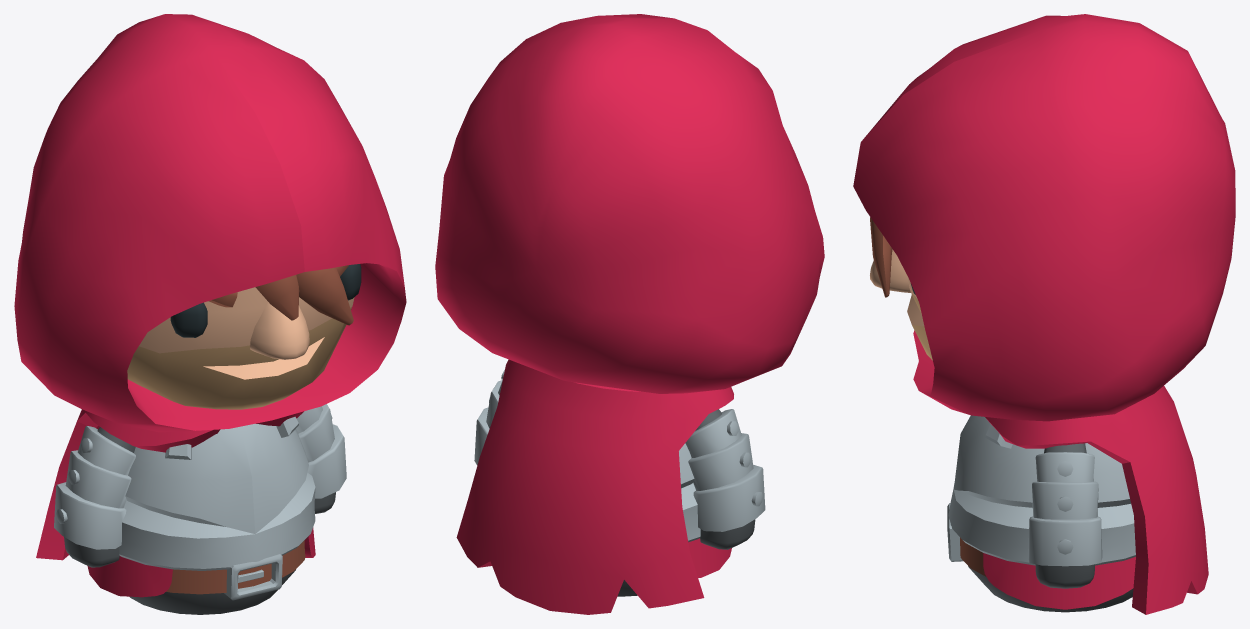
Rendered from character_warrior.gltf.
3 renders of one model, left to right at view 1: azimuth 30°, elevation 25°; view 2: azimuth 150°, elevation 25°; view 3: azimuth 270°, elevation 25°, orthographic. The views are drawn at different scales.
Visible parts, largest first — view 1: character_warriorHead, character_warriorBody, character_warriorArmRight, character_warriorCape, character_warriorArmLeft; view 2: character_warriorHead, character_warriorCape, character_warriorArmRight, character_warriorBody, character_warriorArmLeft; view 3: character_warriorHead, character_warriorBody, character_warriorCape, character_warriorArmLeft.
Part boxes in pixels (box(x1,y1,x2,y2)): character_warriorHead: box(14, 14, 406, 432); character_warriorBody: box(87, 416, 315, 614); character_warriorArmRight: box(54, 426, 135, 567); character_warriorCape: box(36, 409, 303, 560); character_warriorArmLeft: box(296, 404, 346, 513); character_warriorHead: box(435, 14, 824, 393); character_warriorCape: box(456, 359, 733, 614); character_warriorArmRight: box(685, 409, 765, 549); character_warriorBody: box(617, 443, 731, 596); character_warriorArmLeft: box(474, 369, 504, 465); character_warriorHead: box(853, 14, 1235, 421); character_warriorBody: box(947, 415, 1135, 612); character_warriorCape: box(985, 386, 1208, 614); character_warriorArmLeft: box(1028, 443, 1102, 588).
Bounding box in the file's own units: 1.19 × 1.85 × 1.16.
